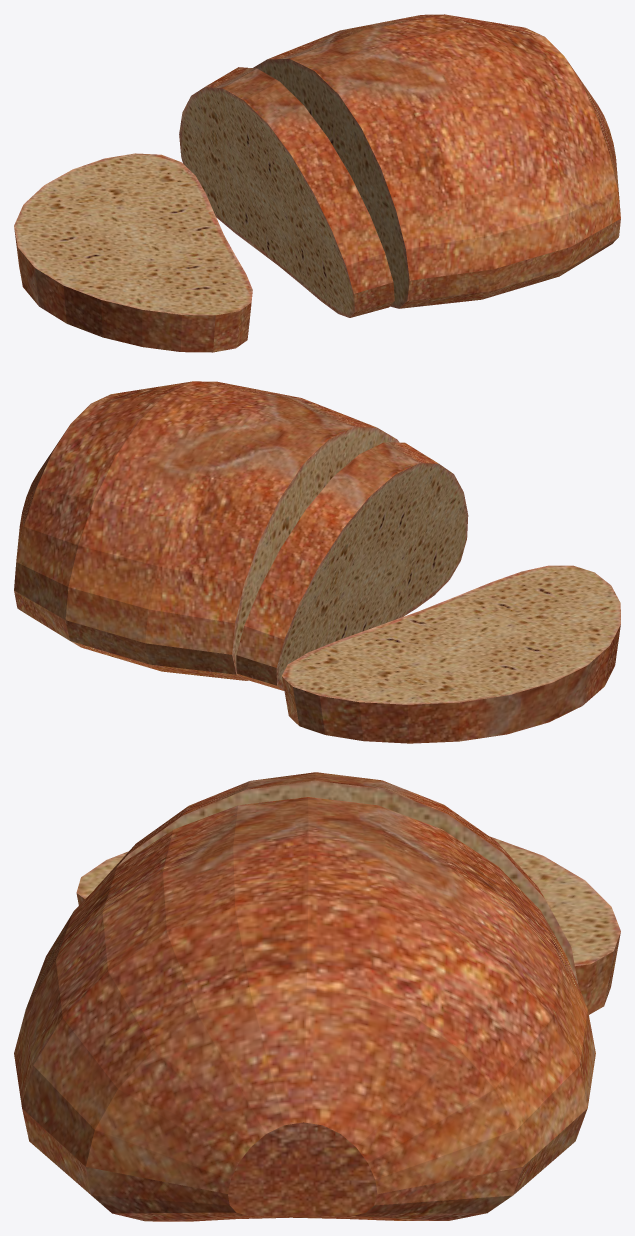
File: bread.obj
The picture shows the model from 3 angles, top to bottom: view 1: azimuth 30°, elevation 25°; view 2: azimuth 150°, elevation 25°; view 3: azimuth 270°, elevation 25°; orthographic projection. The views are drawn at different scales.
Parts seen in each view (by area): view 1: breadHalf_Circle, breadHalf.001_Circle.002, breadHalf.003_Circle.004; view 2: breadHalf_Circle, breadHalf.001_Circle.002, breadHalf.003_Circle.004; view 3: breadHalf_Circle, breadHalf.003_Circle.004, breadHalf.001_Circle.002.
Part boxes in pixels (x1,y1,x2,y2): breadHalf_Circle: (253, 14, 620, 308); breadHalf.001_Circle.002: (14, 153, 252, 352); breadHalf.003_Circle.004: (179, 67, 394, 317); breadHalf_Circle: (14, 381, 399, 680); breadHalf.001_Circle.002: (282, 565, 620, 743); breadHalf.003_Circle.004: (236, 442, 468, 690); breadHalf_Circle: (14, 797, 595, 1221); breadHalf.003_Circle.004: (94, 772, 578, 984); breadHalf.001_Circle.002: (76, 836, 620, 1014).
Bounding box in the file's own units: 21.63 × 7.58 × 14.71.
Materials: 1 (1 with a texture image).
